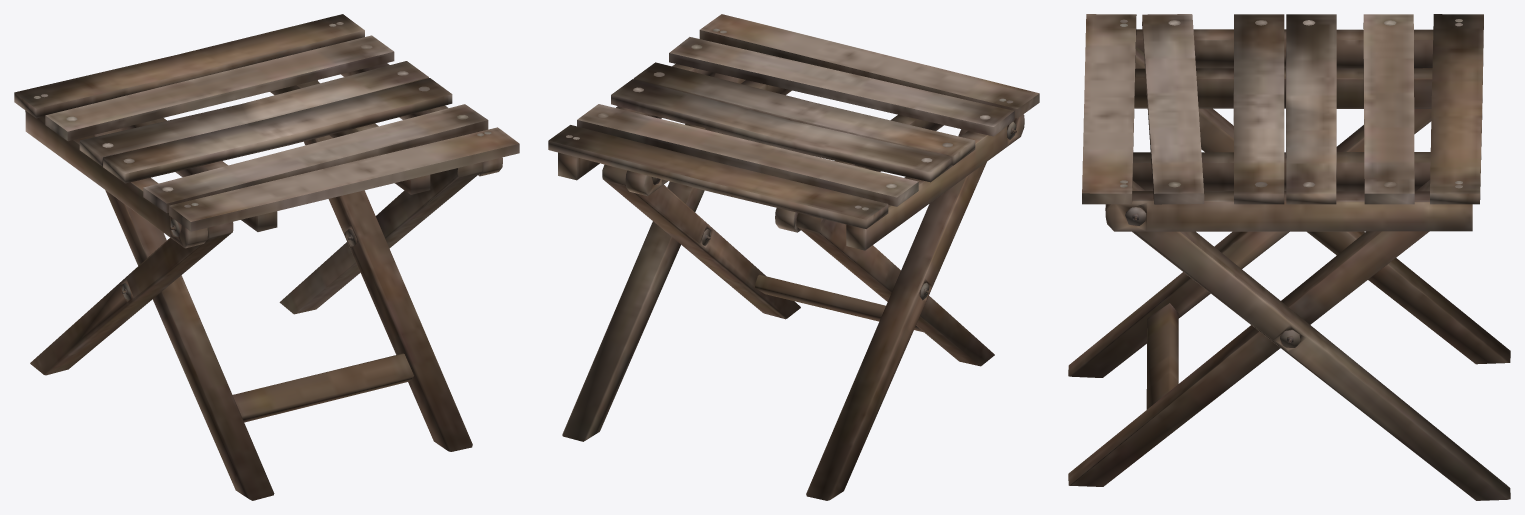
File: folding_wooden_stool.glb
3 views of the same model, side by side, from view 1: azimuth 30°, elevation 25°; view 2: azimuth 150°, elevation 25°; view 3: azimuth 270°, elevation 25° (orthographic). The views are drawn at different scales.
Parts seen in each view (by area): view 1: folding_wooden_stool; view 2: folding_wooden_stool; view 3: folding_wooden_stool.
Part boxes in pixels (x1,y1,x2,y2): folding_wooden_stool: (14, 14, 519, 500); folding_wooden_stool: (548, 14, 1039, 500); folding_wooden_stool: (1068, 14, 1510, 500).
Size of the model in its own units: 0.5266 by 0.4413 by 0.5471.
Materials: 1 (1 with a texture image).
